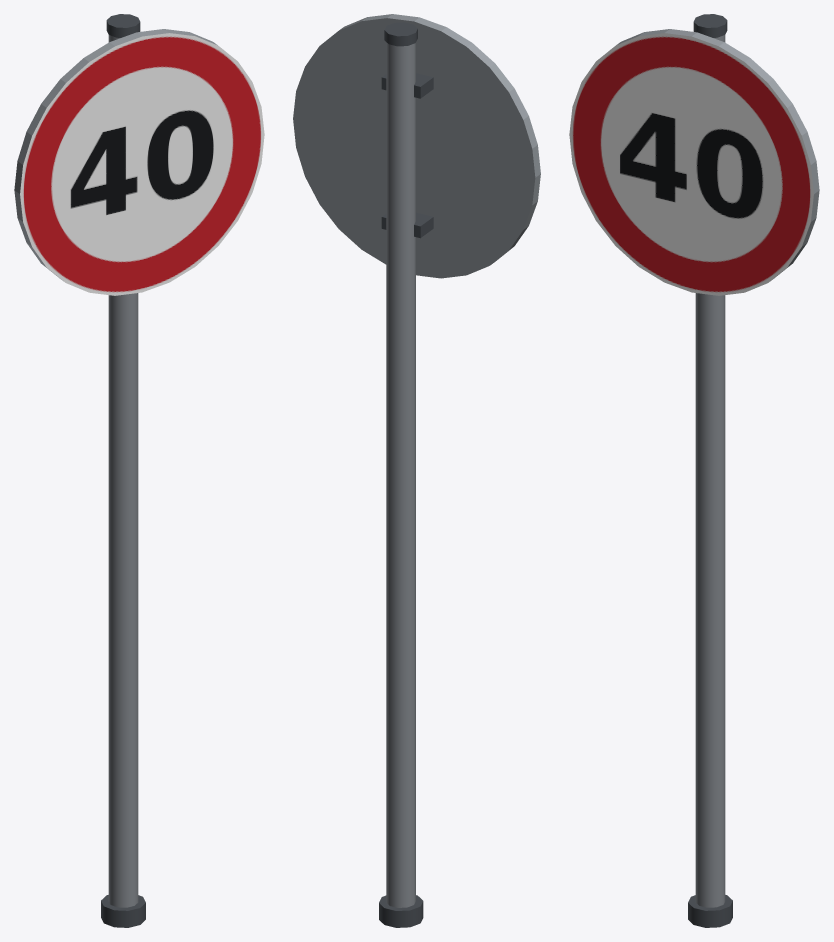
Rendered from placa-velocidade-40.glb.
3 views of the same model, side by side, from view 1: azimuth 30°, elevation 25°; view 2: azimuth 150°, elevation 25°; view 3: azimuth 330°, elevation 25° (orthographic).
Visible parts, largest first — view 1: Placa, Poste; view 2: Placa, Poste, Suportes; view 3: Placa, Poste.
Part boxes in pixels (bbox=[...]): Placa: bbox=[14, 29, 264, 295]; Poste: bbox=[101, 14, 145, 927]; Placa: bbox=[293, 14, 540, 278]; Poste: bbox=[379, 22, 423, 927]; Suportes: bbox=[381, 73, 433, 238]; Placa: bbox=[569, 29, 819, 295]; Poste: bbox=[688, 14, 732, 927].
Bounding box in the file's own units: 0.75 × 2.63 × 0.1571.
4 materials, 1 textured.
